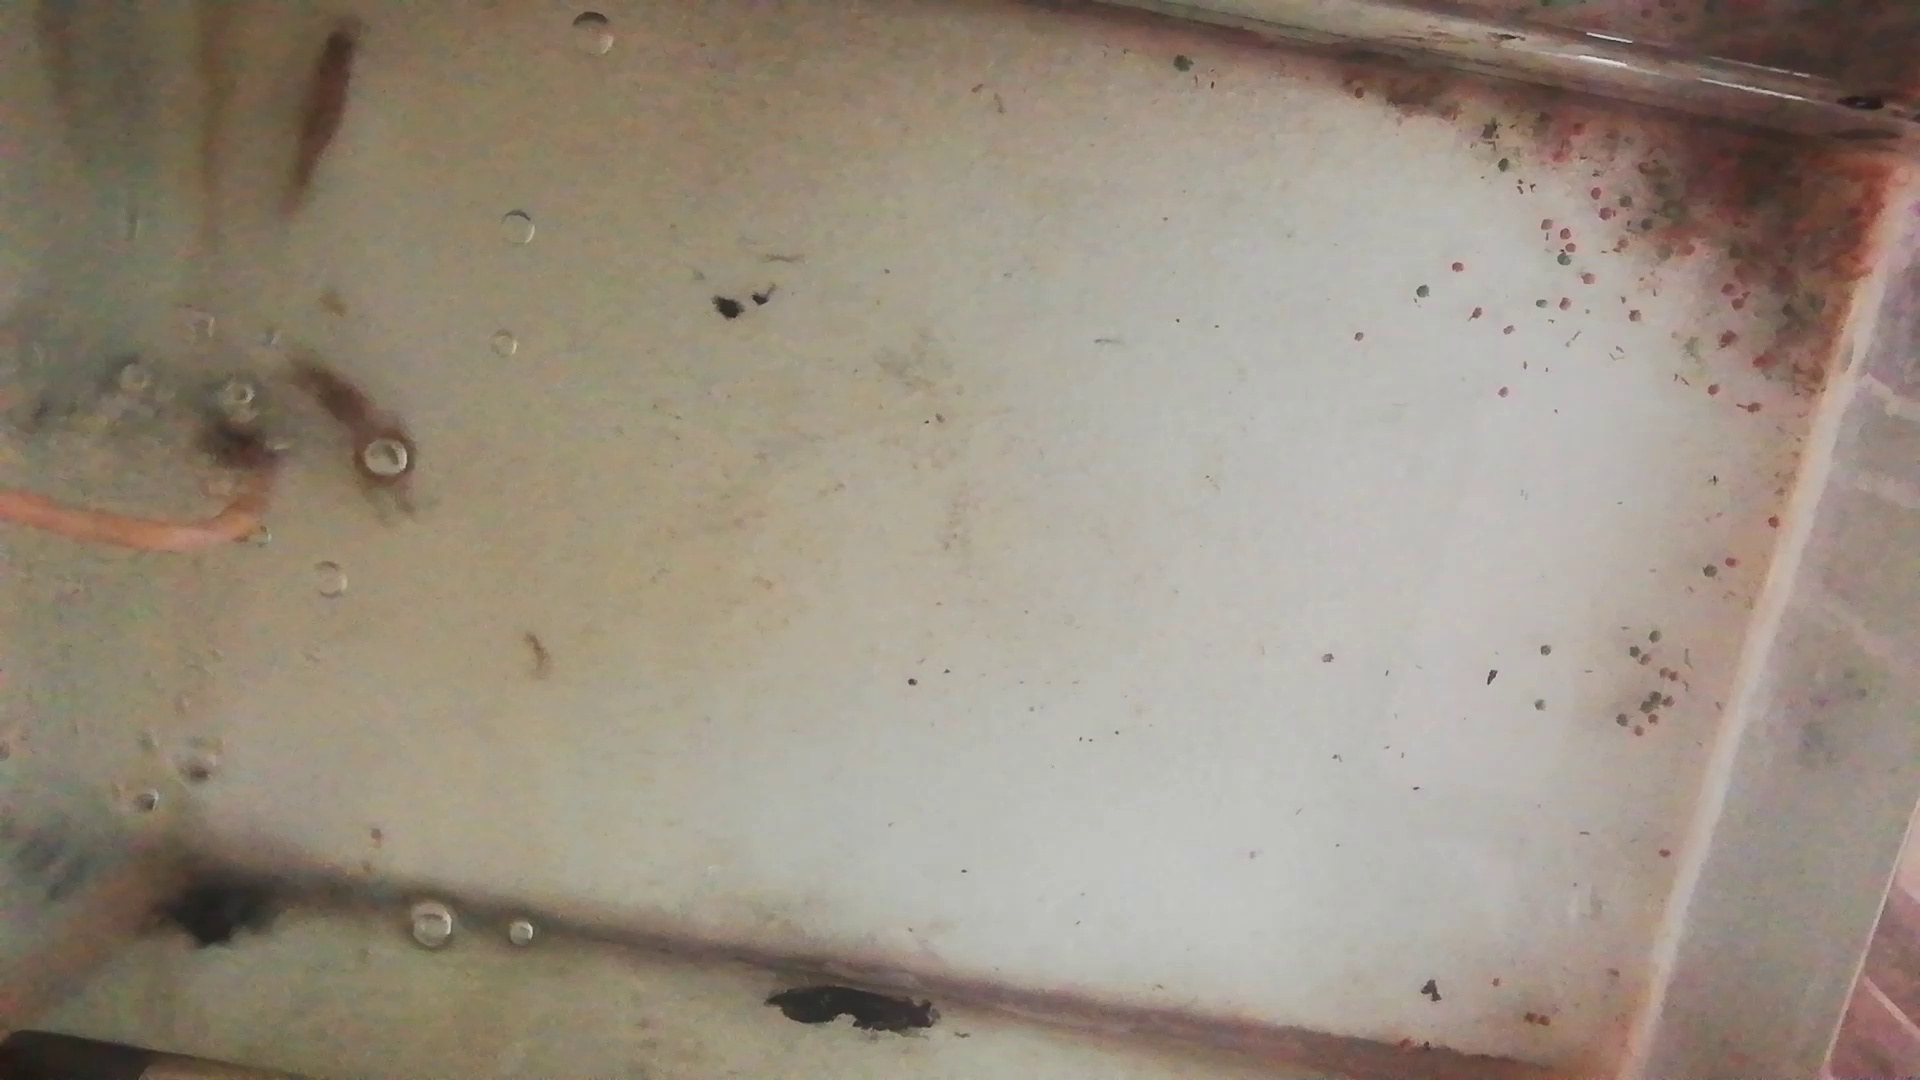fish: (277, 351, 415, 505), (266, 18, 367, 208)
